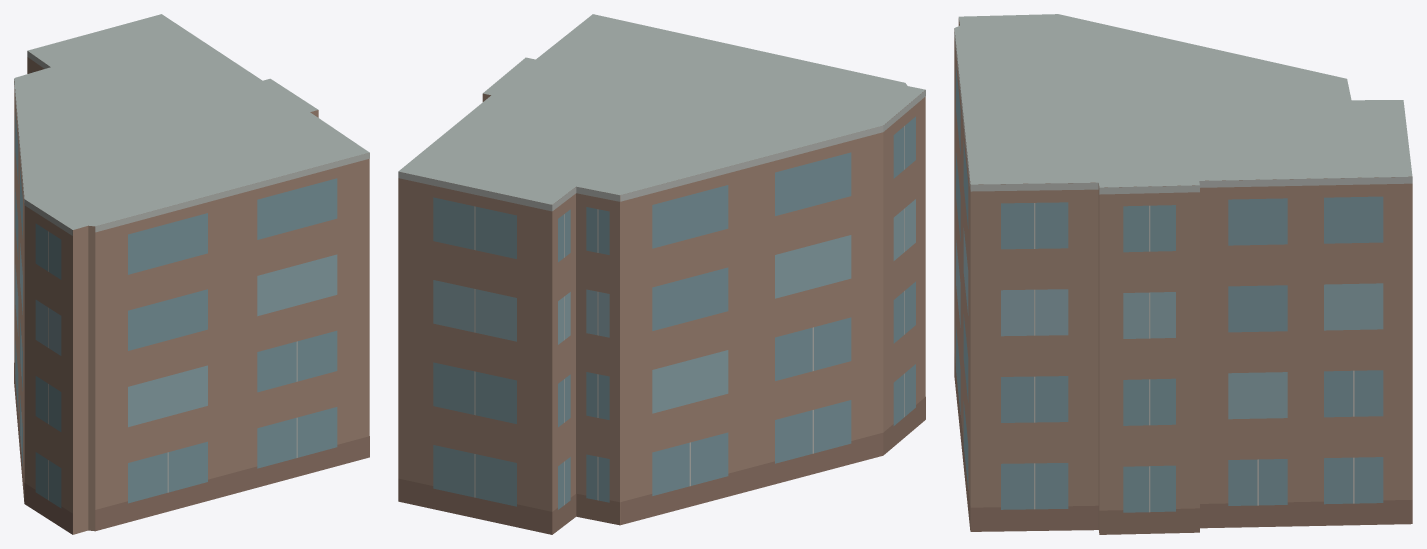
The model's file is survey-upis-32689234.glb.
The picture shows the model from 3 angles, left to right: view 1: azimuth 30°, elevation 25°; view 2: azimuth 150°, elevation 25°; view 3: azimuth 270°, elevation 25°; orthographic projection. The views are drawn at different scales.
Parts seen in each view (by area): view 1: survey-upis-32689234.tmp; view 2: survey-upis-32689234.tmp; view 3: survey-upis-32689234.tmp.
Part boxes in pixels (bbox=[...]): survey-upis-32689234.tmp: bbox=[14, 14, 369, 534]; survey-upis-32689234.tmp: bbox=[398, 14, 925, 534]; survey-upis-32689234.tmp: bbox=[954, 14, 1412, 534].
Bounding box in the file's own units: 13.08 × 12.2 × 14.6.
